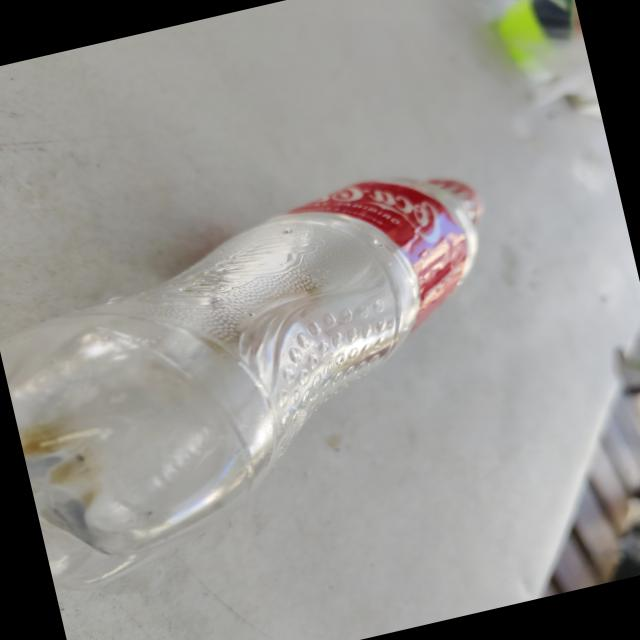Bottle: (0, 178, 481, 588)
